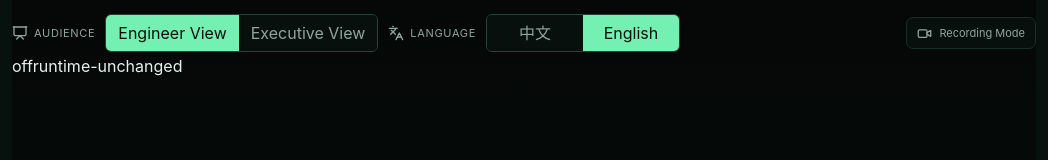
Test: TASK-0234 presentation and recording freeze › toggles Recording Mode only in presentation context
Expected: the text named "recording-state" reads "off", [12, 56, 33, 76]
Click the button "Recording Mode".
click(971, 33)  # box [906, 17, 1036, 49]
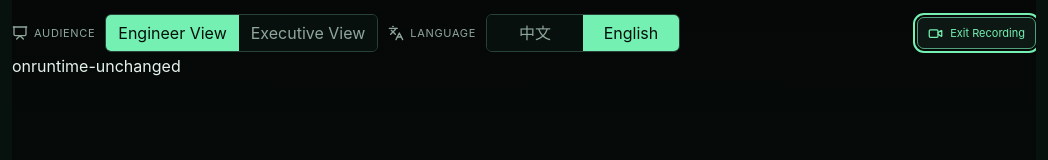
Expected: the text with test id "runtime-sentinel" reads "runtime-unchanged", [31, 56, 181, 76]
Expected: the text named "recording-state" reads "on", [12, 56, 31, 76]
